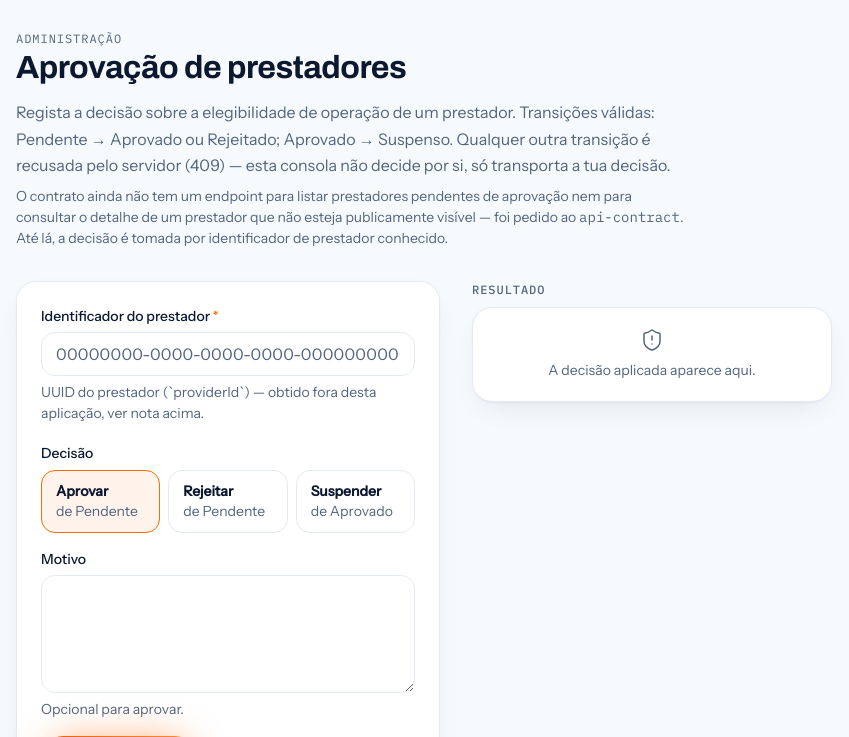
Test case: AdminProviderApprovalsPage — consola de aprovação (defeito C1) › 422 do servidor mapeia para o campo motivo (rede de segurança contra drift cliente/contrato)
Type "a419d818-cc7f-4910-a99b-c14cb157f3eb" into the field labelled "Identificador do prestador *" at (228, 354), box [41,332,415,376]
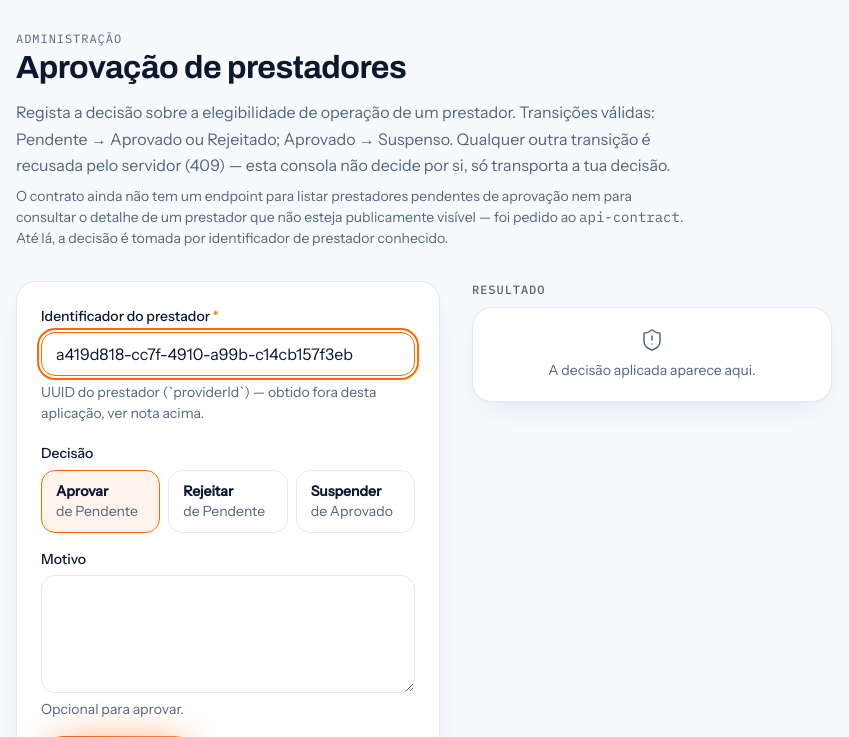
Click the radio button labelled "Aprovar de Pendente" at (101, 502), box [41,470,160,533]
(page scrolled)
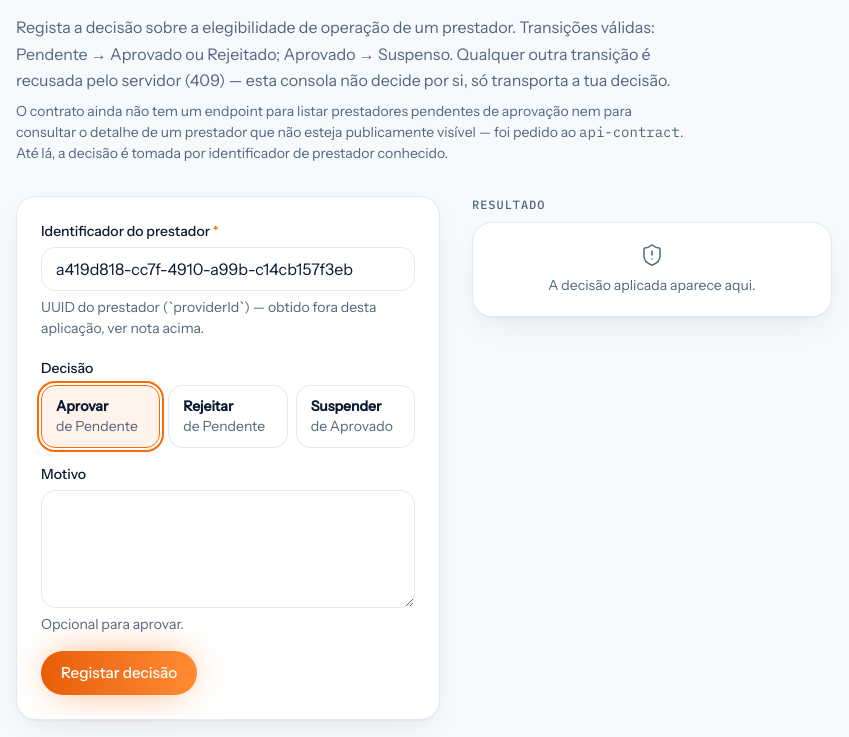
Click the button "Registar decisão" at (119, 673), box [41,651,197,695]
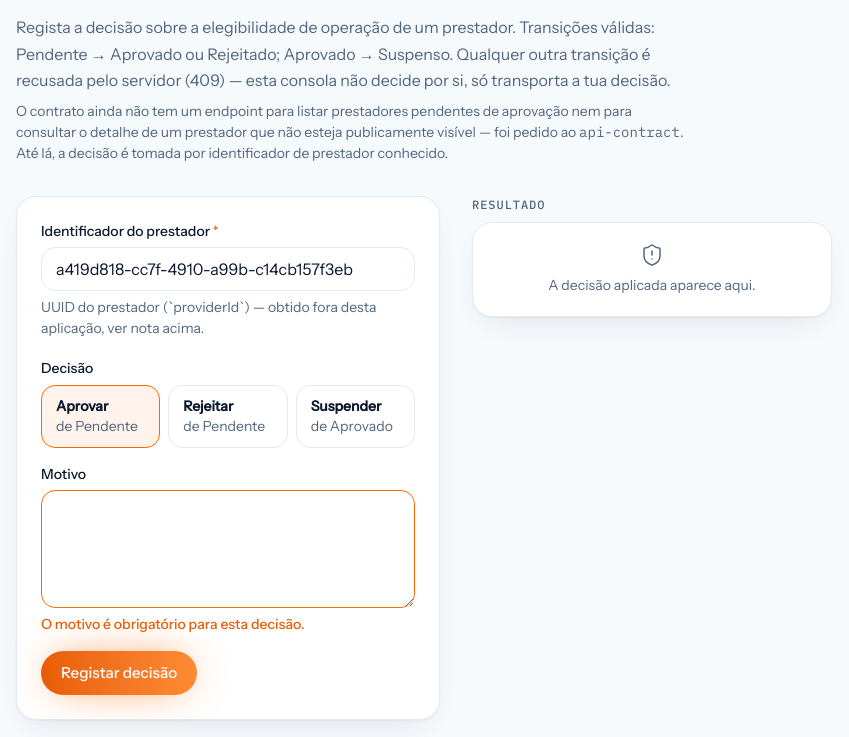
Now the text "O motivo é obrigatório para esta decisão." is shown, box [41,615,304,633]
